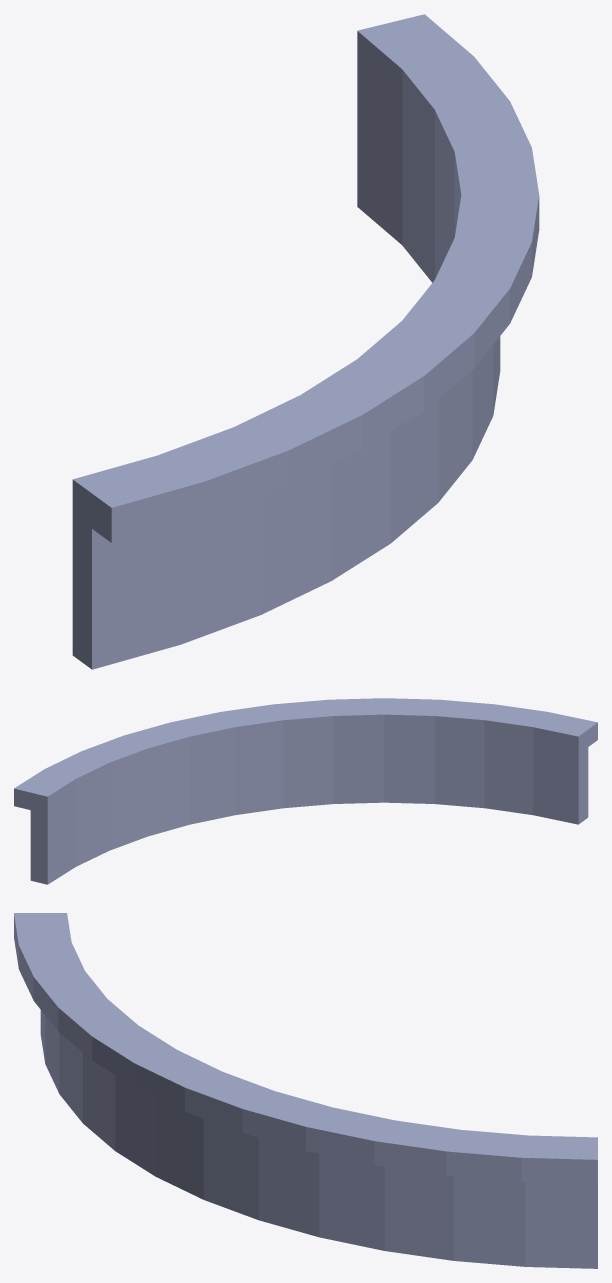
Rendered from border-high-corner-round.obj.
3 renders of one model, top to bottom at view 1: azimuth 30°, elevation 25°; view 2: azimuth 150°, elevation 25°; view 3: azimuth 270°, elevation 25°, orthographic. The views are drawn at different scales.
Size of the model in its own units: 2.2 by 0.5 by 2.2.
